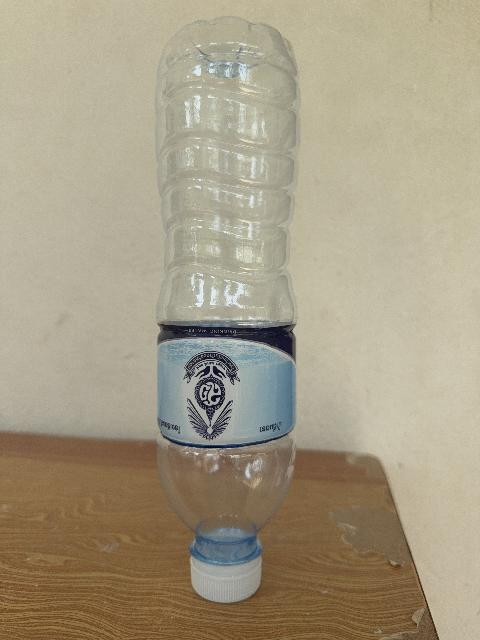bottle: (157, 17, 299, 601)
